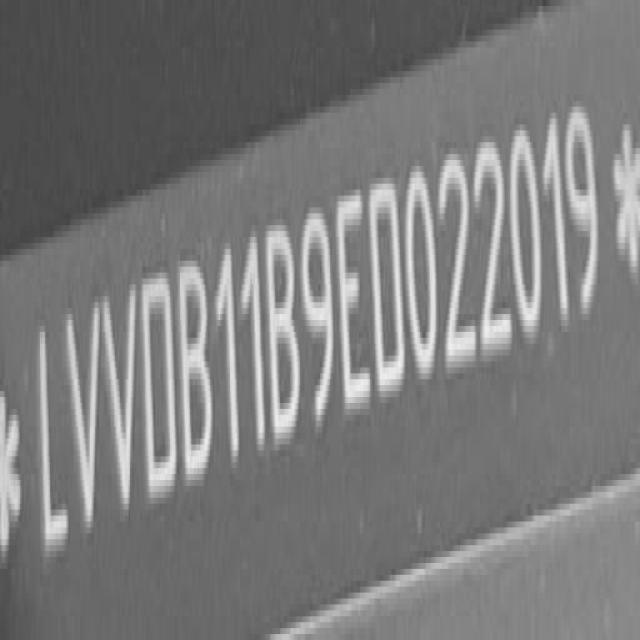0: (507, 108, 543, 338), (404, 164, 439, 388)
1: (215, 241, 244, 470), (242, 228, 270, 463), (544, 108, 570, 327)
2: (436, 145, 478, 362), (473, 132, 513, 353)
9: (303, 208, 334, 450), (564, 103, 599, 316)
B: (266, 222, 304, 443), (178, 259, 212, 489)
D: (140, 265, 178, 494), (368, 173, 404, 406)
E: (335, 173, 372, 406)
L: (36, 309, 68, 564)
V: (103, 281, 138, 527), (66, 300, 102, 526)
